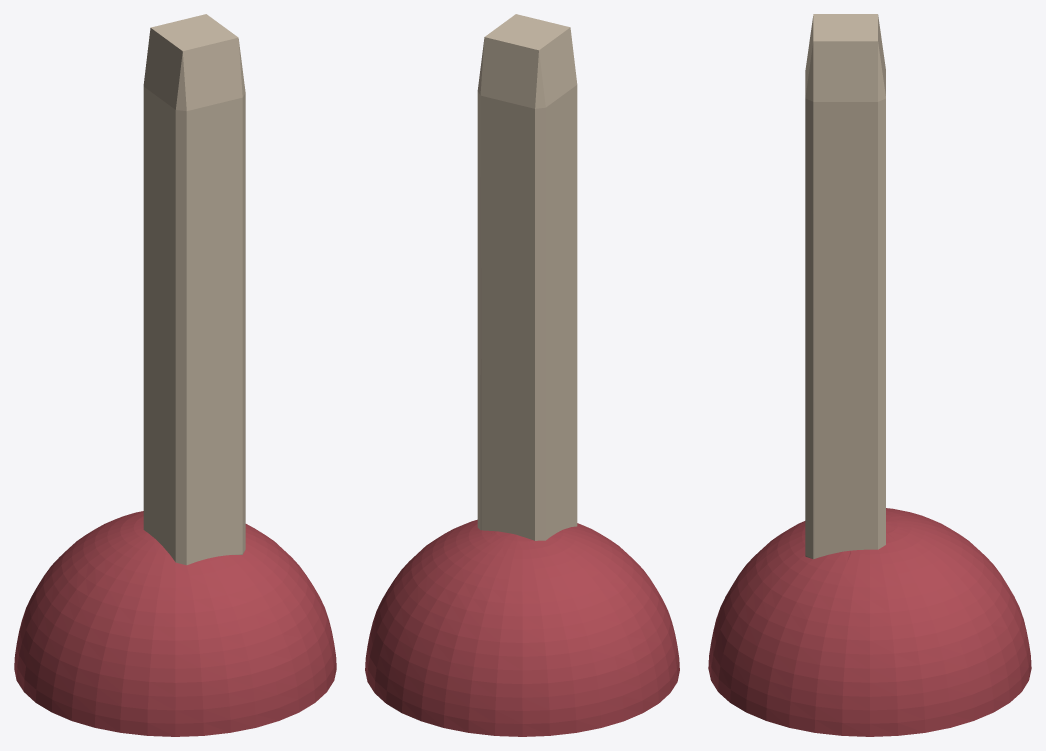
Rendered from plunger_1.glb.
3 renders of one model, left to right at view 1: azimuth 30°, elevation 25°; view 2: azimuth 150°, elevation 25°; view 3: azimuth 270°, elevation 25°, orthographic. The views are drawn at different scales.
Parts seen in each view (by area): view 1: Mesh_Mesh_head_geo.001_lambert2SG.001; view 2: Mesh_Mesh_head_geo.001_lambert2SG.001; view 3: Mesh_Mesh_head_geo.001_lambert2SG.001.
Boxes of the visible parts, box(x1,y1,x2,y2) form: Mesh_Mesh_head_geo.001_lambert2SG.001: box(14, 14, 336, 736); Mesh_Mesh_head_geo.001_lambert2SG.001: box(365, 14, 679, 736); Mesh_Mesh_head_geo.001_lambert2SG.001: box(708, 14, 1031, 736).
Size of the model in its own units: 1 by 2.2 by 1.
